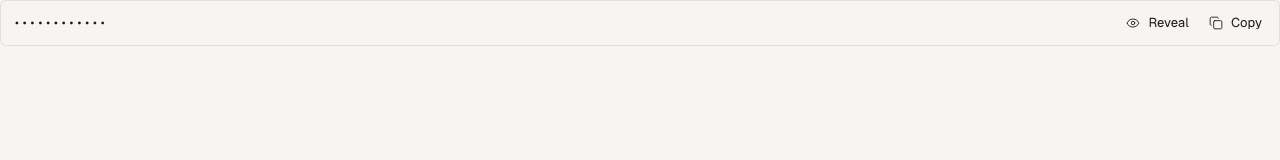
SecretValue › drops the value when the identity changes and copies the current secret
Later steps or results of the test are not shown.
Click the button "Reveal": click(1158, 23) left=1117, top=9, right=1198, bottom=37
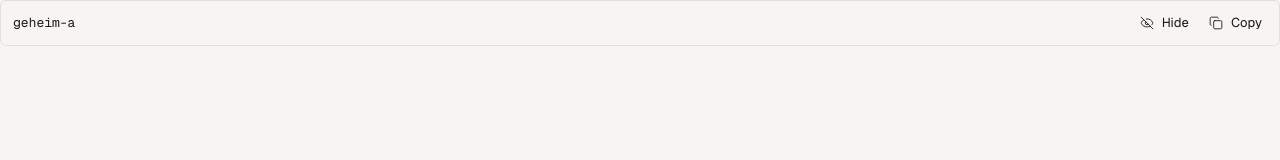
Check: the text "geheim-a" is shown, box left=13, top=14, right=75, bottom=31
